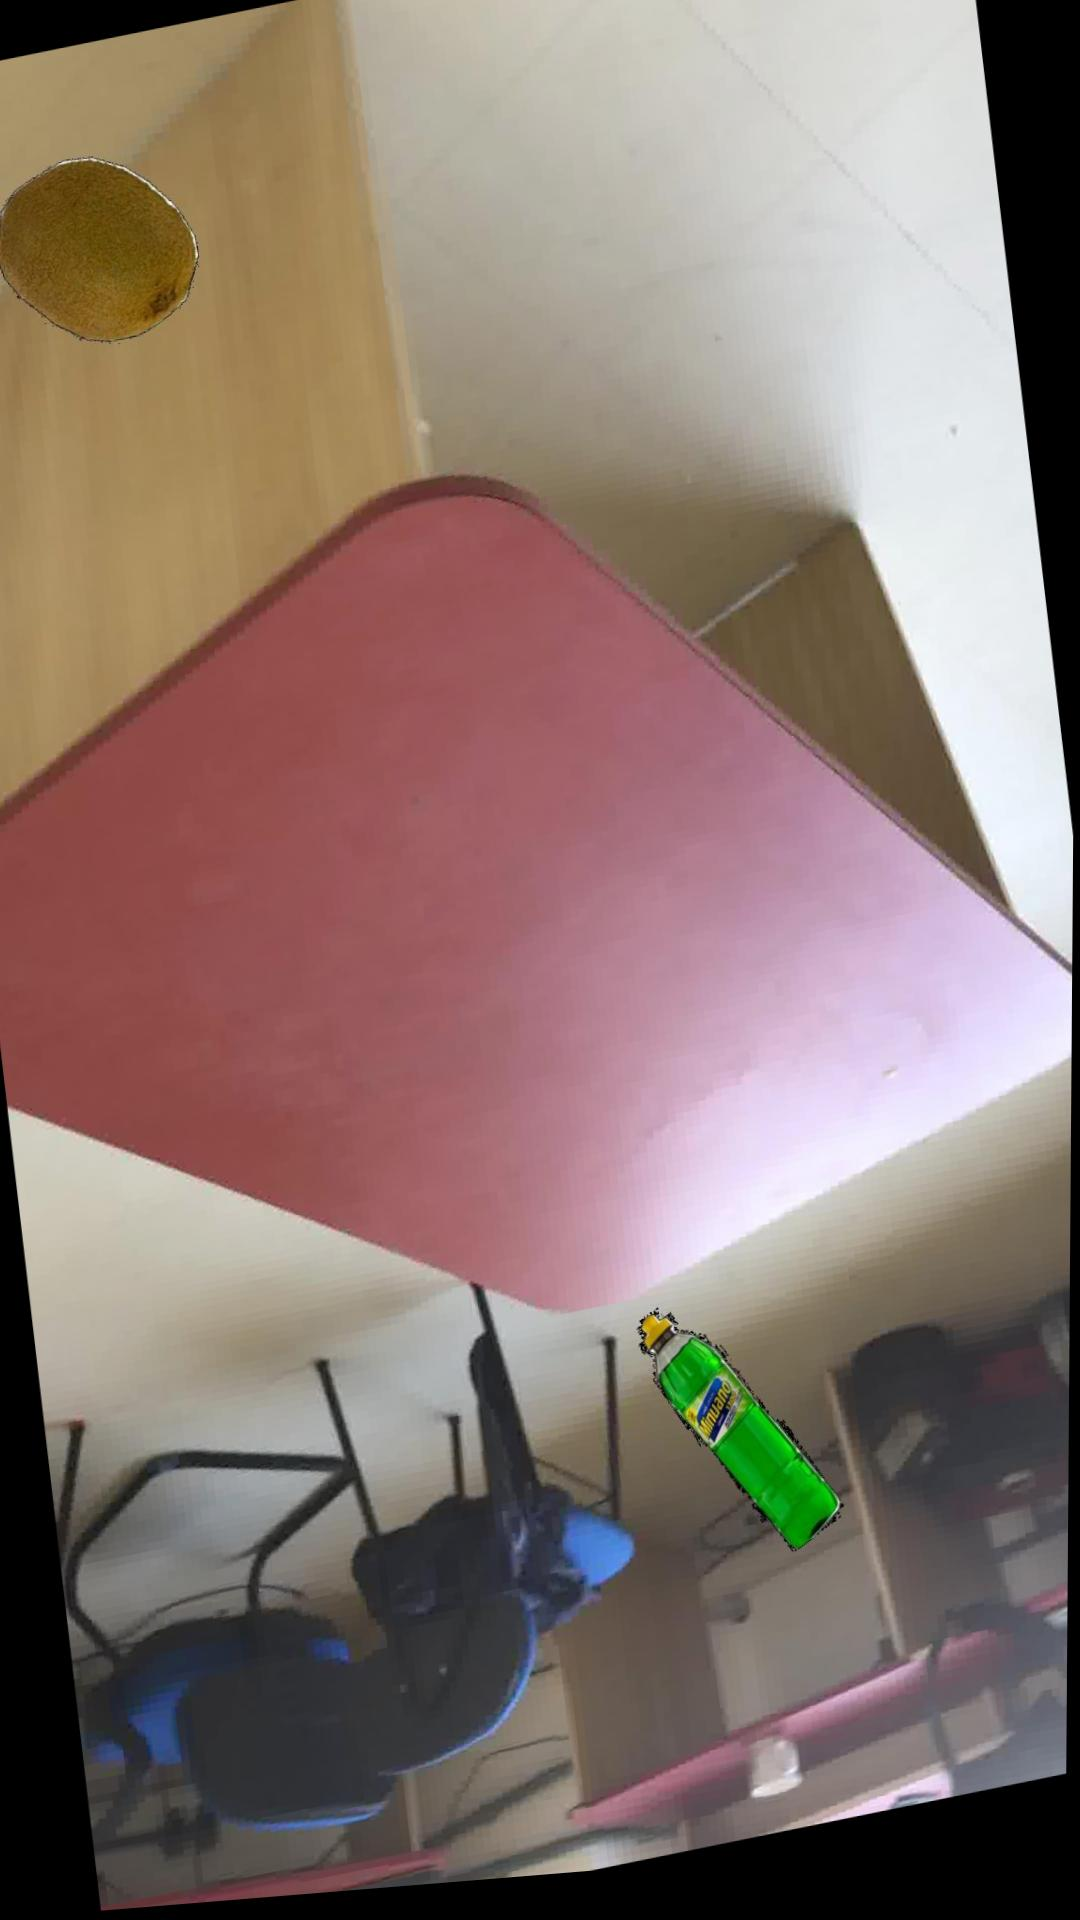cleaner: (637, 1323, 844, 1565)
kiwi: (0, 158, 196, 344)
